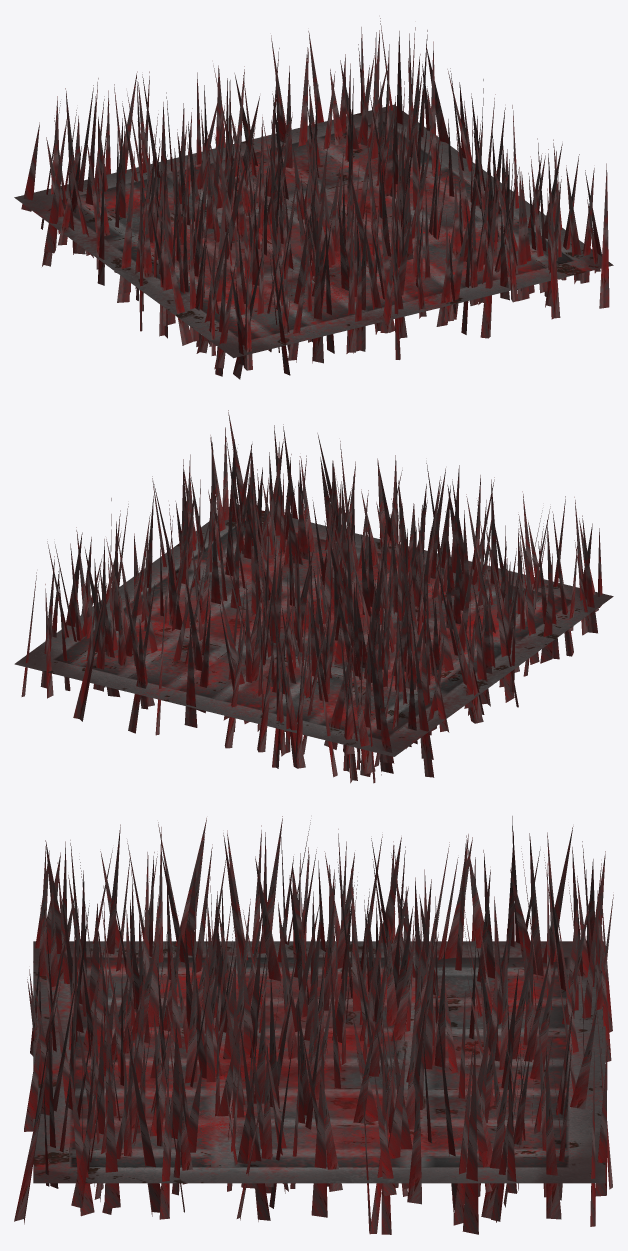
File: SpikePit.glb
The picture shows the model from 3 angles, top to bottom: view 1: azimuth 30°, elevation 25°; view 2: azimuth 150°, elevation 25°; view 3: azimuth 270°, elevation 25°; orthographic projection. The views are drawn at different scales.
Visible parts, largest first — view 1: Plane; view 2: Plane; view 3: Plane.
Part boxes in pixels (<box>): Plane: <box>14,18,613,379</box>; Plane: <box>14,410,613,783</box>; Plane: <box>14,816,613,1234</box>.
Bounding box in the file's own units: 10.4 × 3.99 × 10.48.
2 materials, 2 textured.
